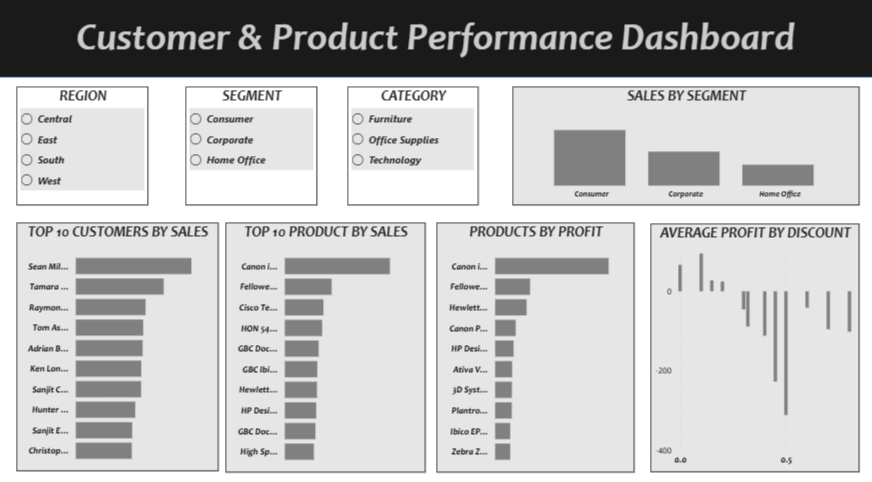

What the dashboard file says about the page in this screenshot:
{"tool":"powerbi","page":{"name":"Interactive Analysis","canvas":[1280,720],"ordinal":1},"visuals":[{"type":"shape","title":"Business Intelligence Report","box":[0,0,1280.5,120],"z":0},{"type":"listSlicer","title":"REGION","fields":{"Values":["samplesuperstore.Region"]},"box":[26.3,133.2,193.2,174.1],"z":1000},{"type":"listSlicer","title":"SEGMENT","fields":{"Values":["samplesuperstore.Segment"]},"box":[273.7,133.2,193.2,174.1],"z":2000},{"type":"listSlicer","title":"CATEGORY","fields":{"Values":["samplesuperstore.Category"]},"box":[510.7,133.2,191.7,174.1],"z":3000},{"type":"clusteredBarChart","title":"TOP 10 CUSTOMERS BY SALES","fields":{"Category":["samplesuperstore.Customer Name"],"Y":["Sum(samplesuperstore.Sales)"]},"box":[26.3,332.2,295.6,364.4],"z":4000},{"type":"clusteredBarChart","title":"TOP 10 PRODUCT BY SALES","fields":{"Category":["samplesuperstore.Product Name"],"Y":["Sum(samplesuperstore.Sales)"]},"box":[332.2,332.2,292.7,365.9],"z":5000},{"type":"clusteredColumnChart","title":"SALES BY SEGMENT","fields":{"Category":["samplesuperstore.Segment"],"Y":["Sum(samplesuperstore.Sales)"]},"box":[752.2,133.2,507.8,174.1],"z":6000},{"type":"clusteredBarChart","title":"PRODUCTS BY PROFIT","fields":{"Category":["samplesuperstore.Product Name"],"Y":["Sum(samplesuperstore.Profit)"]},"box":[641,332.2,289.8,365.9],"z":7000},{"type":"clusteredColumnChart","title":" PROFIT BY DISCOUNT BAND","fields":{"Category":["samplesuperstore.Discount"],"Y":["Avg(samplesuperstore.Profit)"]},"box":[954.1,333.7,305.9,364.4],"z":8000}]}

Visuals, with their boxes in screenshot pixels (x1, y1, x2, y2), scaled from the page's 1280x720 canvas onto the 872x482 screenshot:
"Business Intelligence Report" shape: x1=0, y1=0, x2=871, y2=80
"REGION" listSlicer: x1=18, y1=89, x2=150, y2=206
"SEGMENT" listSlicer: x1=186, y1=89, x2=318, y2=206
"CATEGORY" listSlicer: x1=348, y1=89, x2=479, y2=206
"TOP 10 CUSTOMERS BY SALES" clusteredBarChart: x1=18, y1=222, x2=219, y2=466
"TOP 10 PRODUCT BY SALES" clusteredBarChart: x1=226, y1=222, x2=426, y2=467
"SALES BY SEGMENT" clusteredColumnChart: x1=512, y1=89, x2=858, y2=206
"PRODUCTS BY PROFIT" clusteredBarChart: x1=437, y1=222, x2=634, y2=467
" PROFIT BY DISCOUNT BAND" clusteredColumnChart: x1=650, y1=223, x2=858, y2=467
